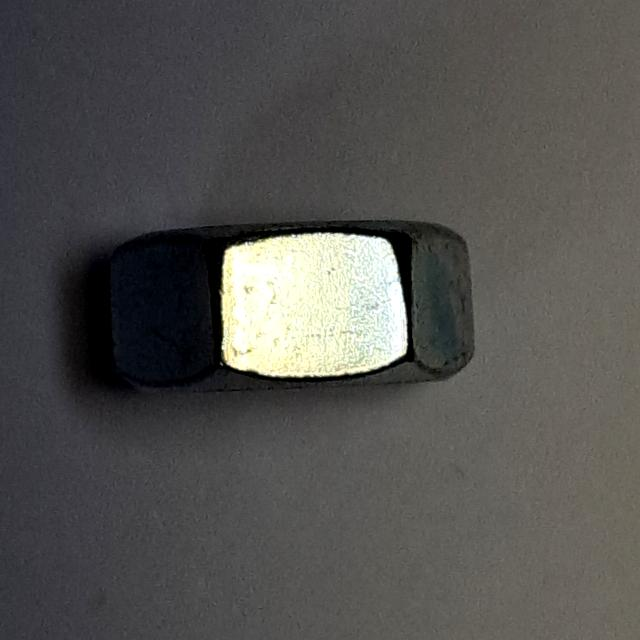Side_Excellent: (96, 192, 491, 414)
